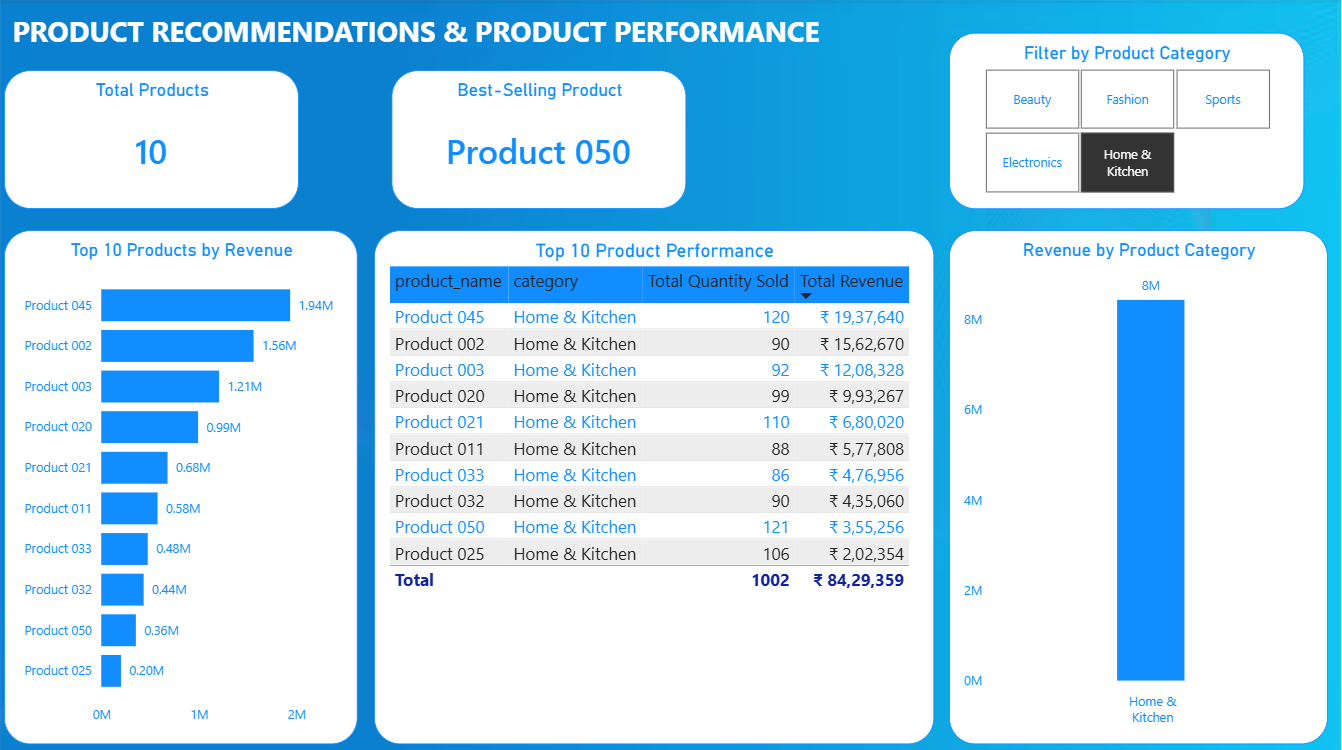

This screenshot's page, from the dashboard's own definition file:
{"tool":"powerbi","page":{"name":"Product Recommendations","canvas":[1280,720],"ordinal":5},"visuals":[{"type":"textbox","box":[3.6,7.1,786.9,48.8],"z":0},{"type":"cardVisual","title":"Total Products","fields":{"Data":["products_cleaned.Total Products"]},"box":[4.8,67.9,281,132.1],"z":1000},{"type":"cardVisual","title":"Best-Selling Product","fields":{"Data":["orders_cleaned.Best-Selling Product"]},"box":[373.8,67.9,281,132.1],"z":2000},{"type":"clusteredBarChart","title":"Top 10 Products by Revenue","fields":{"Category":["products_cleaned.product_name"],"Y":["orders_cleaned.Total Revenue"]},"box":[4.8,220.2,336.9,489.3],"z":3000},{"type":"clusteredColumnChart","title":"Revenue by Product Category","fields":{"Category":["products_cleaned.category"],"Y":["orders_cleaned.Total Revenue"]},"box":[904.8,220.2,360.7,489.3],"z":4000},{"type":"tableEx","title":"Top 10 Product Performance","fields":{"Values":["products_cleaned.product_name","products_cleaned.category","orders_cleaned.Total Quantity Sold","orders_cleaned.Total Revenue"]},"box":[357.1,220.2,533.3,489.3],"z":5000},{"type":"slicer","title":"Filter by Product Category","fields":{"Values":["products_cleaned.category"]},"box":[904.8,32.1,338.1,167.9],"z":5001}]}

Visuals, with their boxes in screenshot pixels (x1, y1, x2, y2), scaled from the page's 1280x720 canvas onto the 1342x750 screenshot:
textbox: (4, 7, 829, 58)
"Total Products" cardVisual: (5, 71, 300, 208)
"Best-Selling Product" cardVisual: (392, 71, 687, 208)
"Top 10 Products by Revenue" clusteredBarChart: (5, 229, 358, 739)
"Revenue by Product Category" clusteredColumnChart: (949, 229, 1327, 739)
"Top 10 Product Performance" tableEx: (374, 229, 934, 739)
"Filter by Product Category" slicer: (949, 33, 1303, 208)
